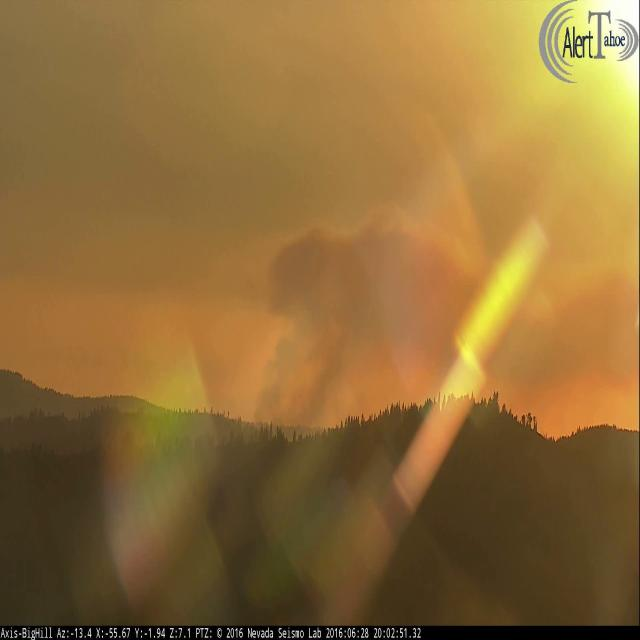smoke: (244, 210, 502, 434)
